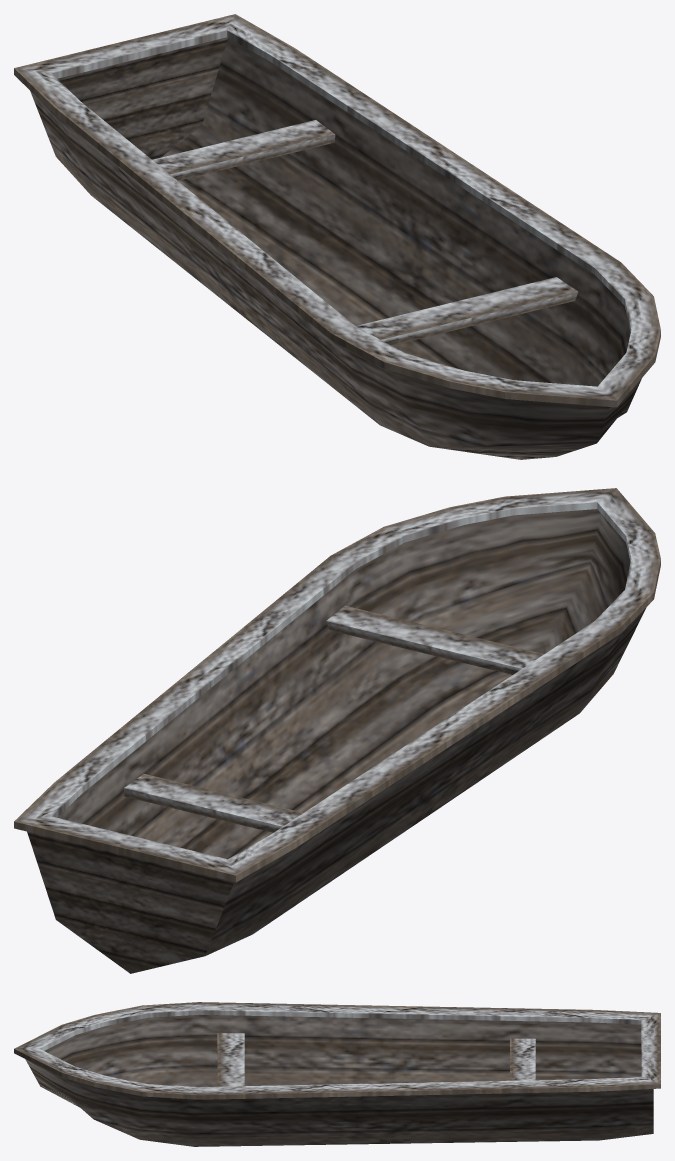
3 views of the same model, one above another, from view 1: azimuth 30°, elevation 25°; view 2: azimuth 150°, elevation 25°; view 3: azimuth 270°, elevation 25° (orthographic). The views are drawn at different scales.
Visible parts, largest first — view 1: wj35; view 2: wj35; view 3: wj35.
Part boxes in pixels (x1,y1,x2,y2): wj35: [14, 14, 660, 459]; wj35: [14, 488, 660, 973]; wj35: [14, 1002, 660, 1146].
Bounding box in the file's own units: 512 × 235 × 1503.
Materials: 1 (1 with a texture image).
